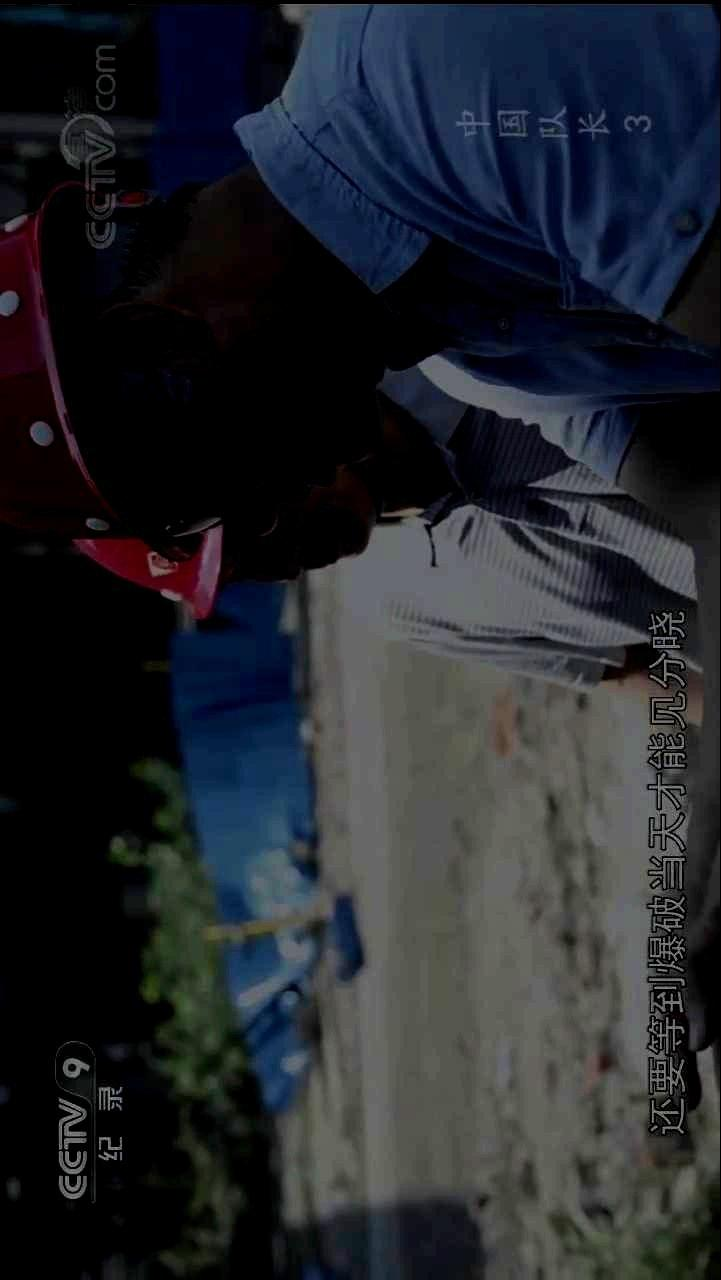helmet: (1, 179, 387, 560), (73, 482, 380, 620)
